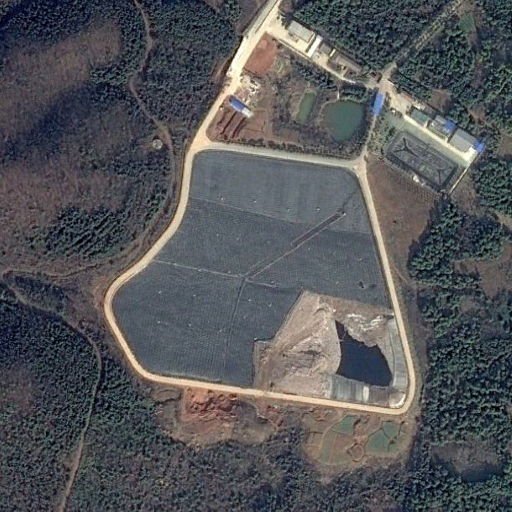lf: (108, 148, 416, 411)
